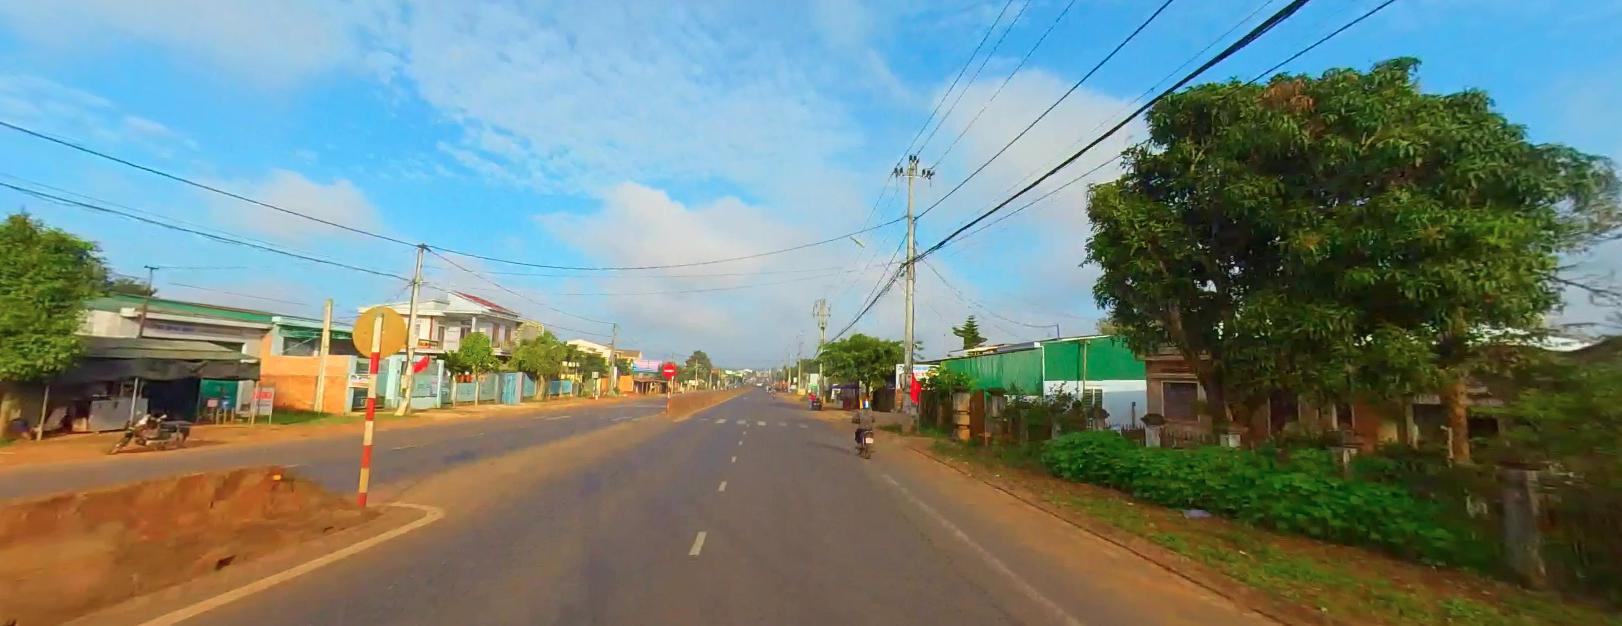Cam nguoc chieu: (662, 363, 675, 376)
